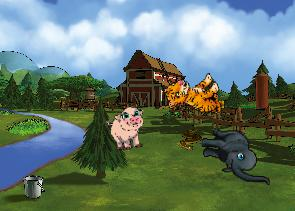elephant: (200, 128, 270, 185)
pig: (105, 105, 150, 153)
tiger: (161, 67, 227, 127)
